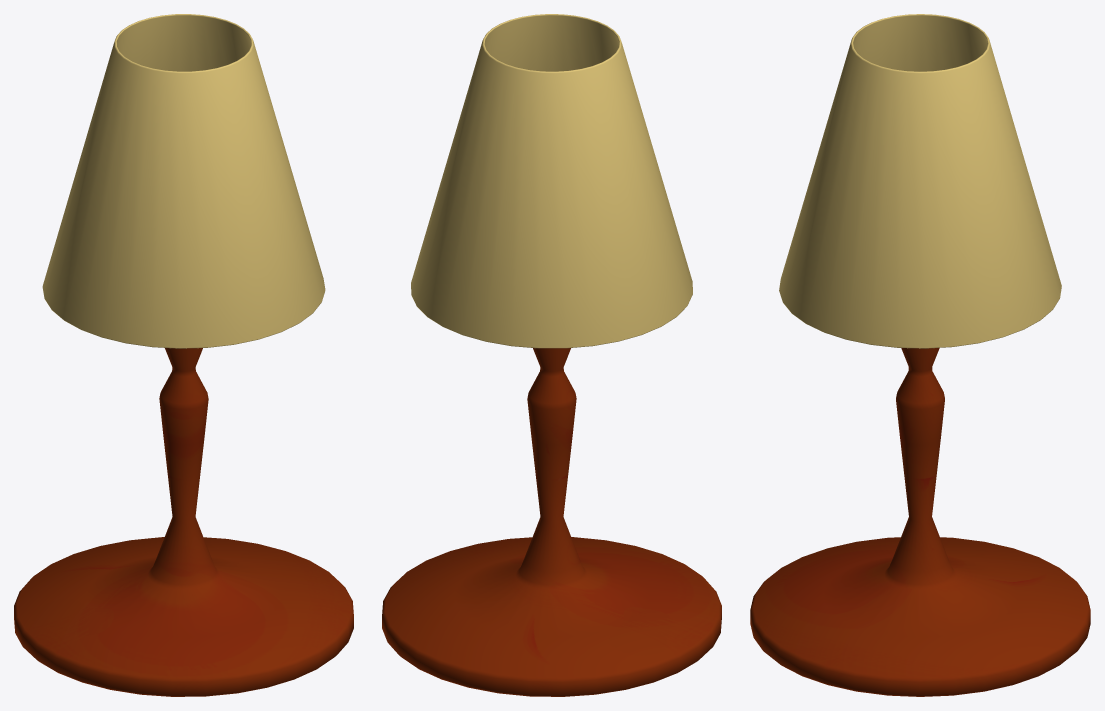
The model's file is abajur_passado.glb.
The picture shows the model from 3 angles, left to right: view 1: azimuth 30°, elevation 25°; view 2: azimuth 150°, elevation 25°; view 3: azimuth 270°, elevation 25°; orthographic projection.
Visible parts, largest first — view 1: cabeça_abajur, tronco; view 2: cabeça_abajur, tronco; view 3: cabeça_abajur, tronco.
Boxes of the visible parts, bbox=[...] form: cabeça_abajur: bbox=[42, 14, 325, 348]; tronco: bbox=[14, 348, 353, 696]; cabeça_abajur: bbox=[411, 14, 692, 348]; tronco: bbox=[382, 348, 721, 696]; cabeça_abajur: bbox=[779, 14, 1061, 348]; tronco: bbox=[750, 348, 1090, 696].
Bounding box in the file's own units: 2 × 3.78 × 2.
3 materials, 1 textured.
